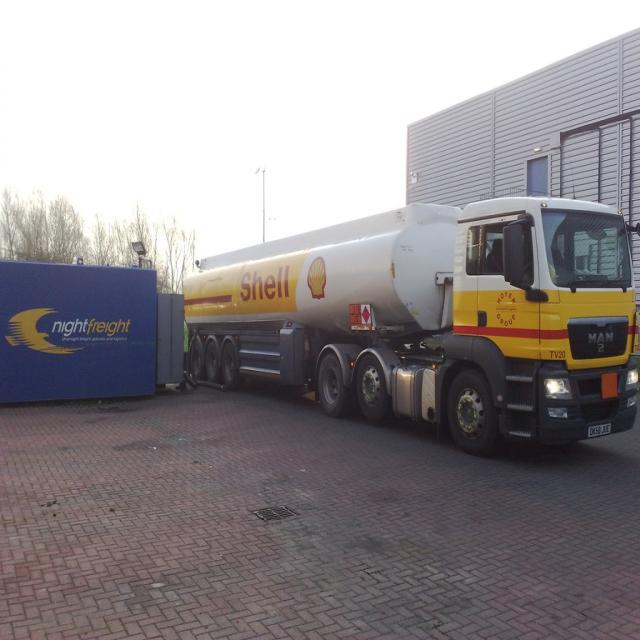shell: (308, 256, 328, 301)
